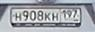license-plateSW: (11, 7, 81, 24)
